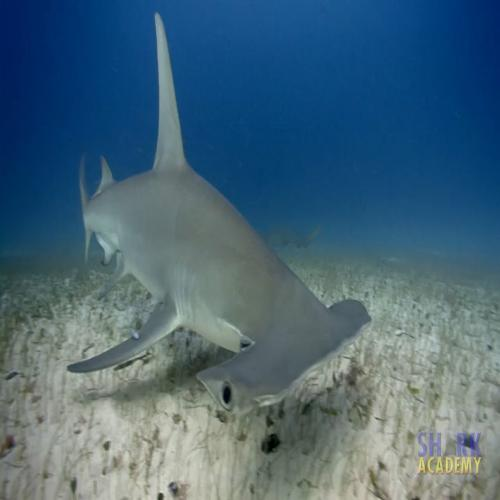shark-endangered: (69, 12, 373, 420)
